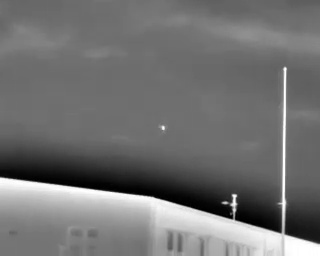HELICOPTER: (157, 122, 169, 135)
